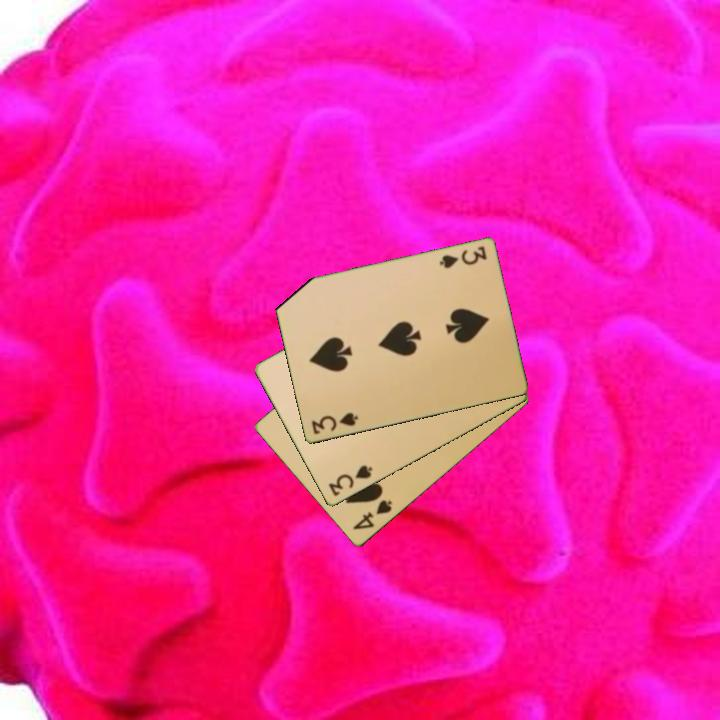3s: (325, 462, 375, 500), (308, 409, 361, 438), (436, 243, 489, 272)
4s: (349, 497, 395, 533)
